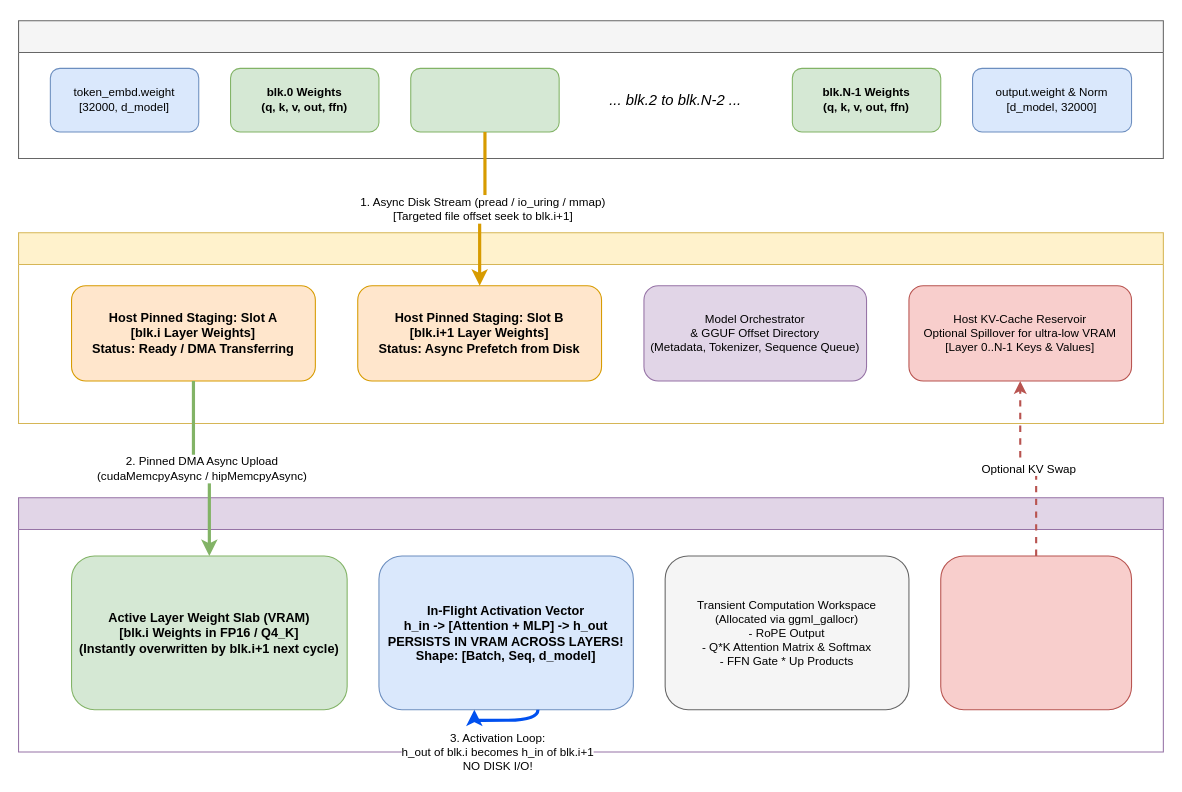
Image size: 1182x792. Some labels were removed from this diagram. Each missing label, with the box of its shape:
Active Layer KV Slice Keys & Values for blk.i (Swapped or kept resident): (940, 555, 1132, 710)
blk.1 Weights (q, k, v, out, ffn): (410, 67, 559, 132)
TIER 1: PERSISTENT STORAGE (SSD / NVMe DISK) Full GGUF Model Repository: (17, 20, 1163, 158)
TIER 2: HOST SYSTEM RAM Double-Buffered Staging Arena & KV Cache Storage: (17, 232, 1163, 423)
TIER 3: DEVICE GPU VRAM (EXECUTION CORE) Active Layer Compute & In-Flight State: (17, 497, 1163, 752)
